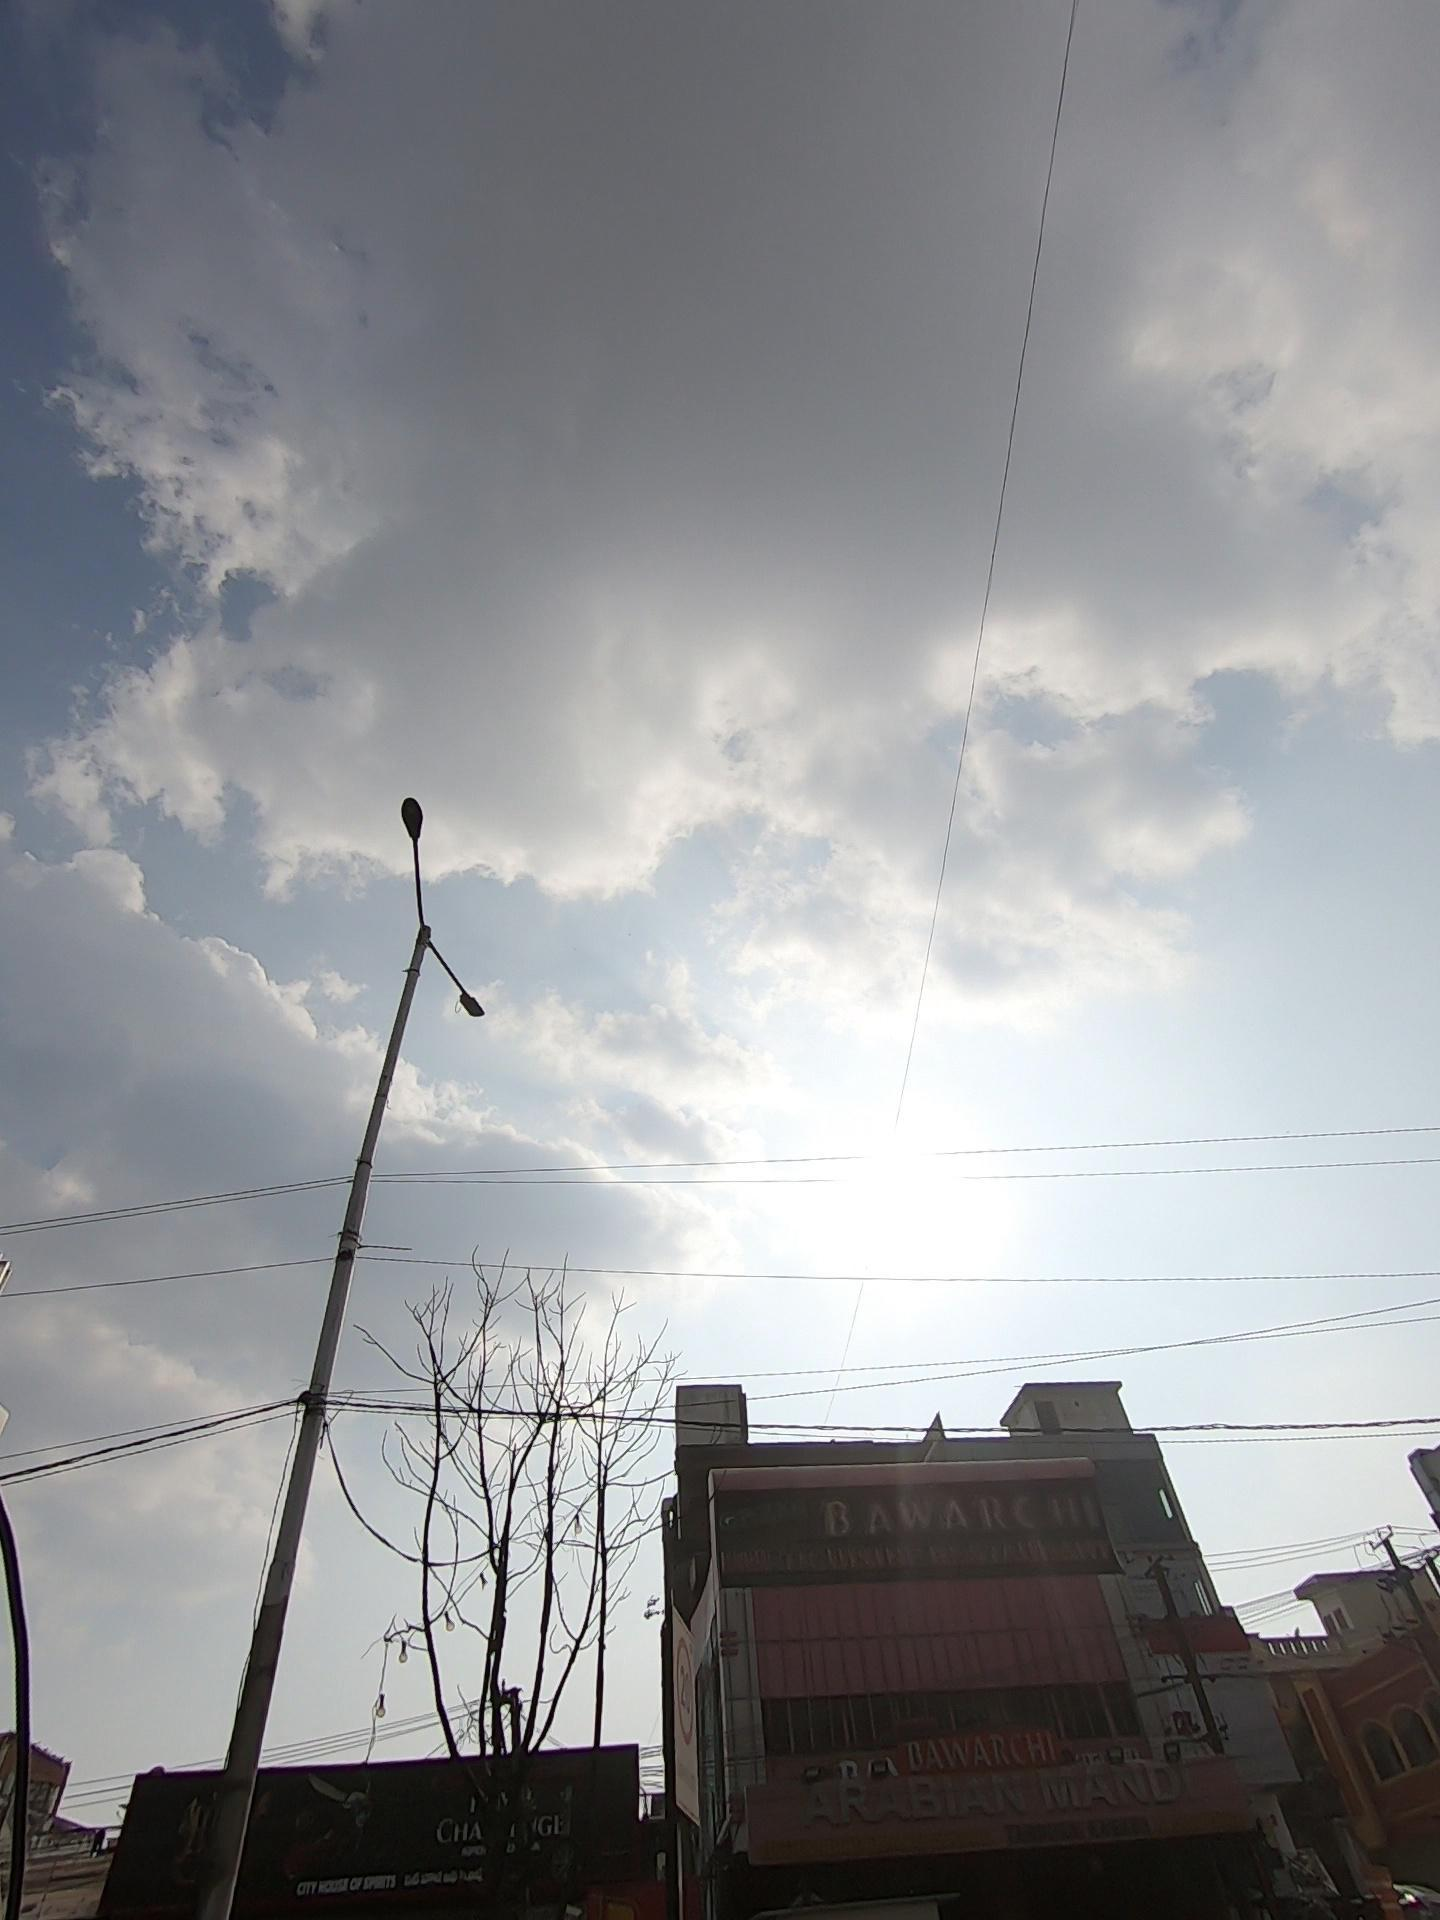on: (340, 711, 564, 1087)
